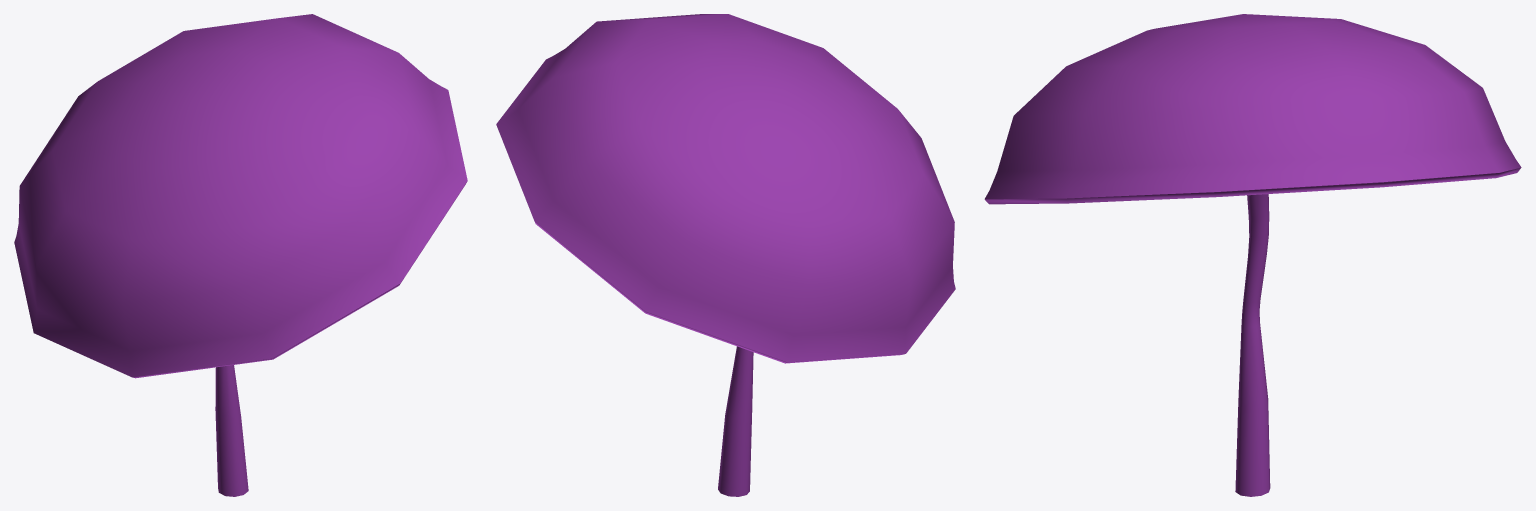
The model's file is Mushroom_06_big.fbx.
3 views of the same model, side by side, from view 1: azimuth 30°, elevation 25°; view 2: azimuth 150°, elevation 25°; view 3: azimuth 270°, elevation 25° (orthographic). The views are drawn at different scales.
Visible parts, largest first — view 1: Arbre_bouclier_top3; view 2: Arbre_bouclier_top3; view 3: Arbre_bouclier_top3.
Part boxes in pixels (x1,y1,x2,y2): Arbre_bouclier_top3: (14, 14, 467, 496); Arbre_bouclier_top3: (496, 14, 955, 496); Arbre_bouclier_top3: (984, 14, 1521, 496).
Bounding box in the file's own units: 2.73 × 2.91 × 2.93.
